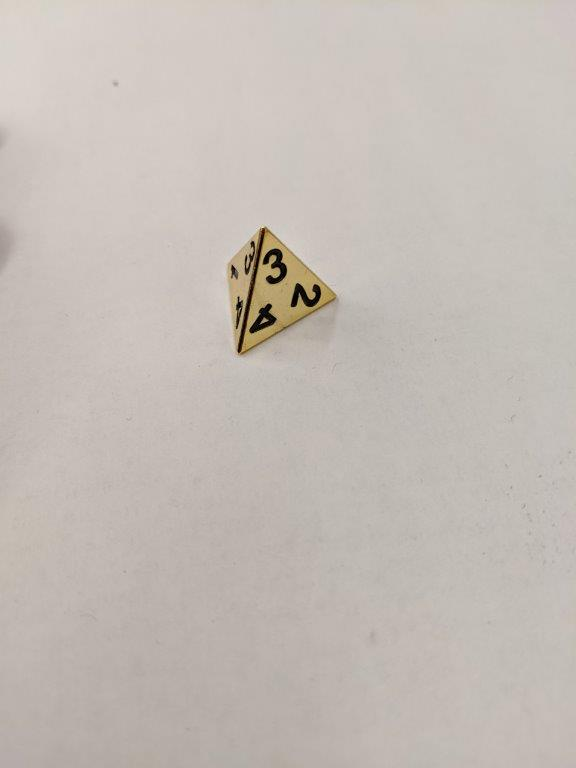d4-3: (225, 226, 341, 357)
